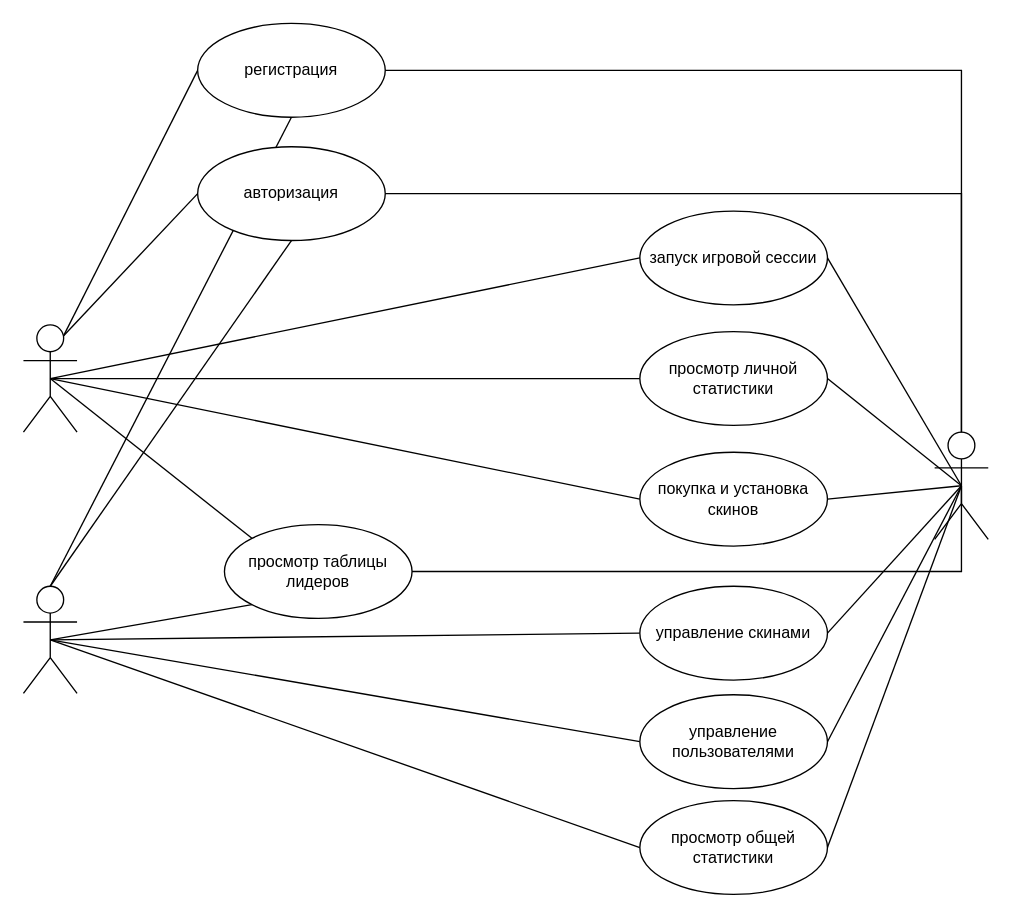
This 1012x918 diagram has some shape labels left out. Here are the shapes that lost their labels. From the top down, the centre of each, then its label:
the point at 49,378: User
the point at 960,485: Server
the point at 49,639: Admin
